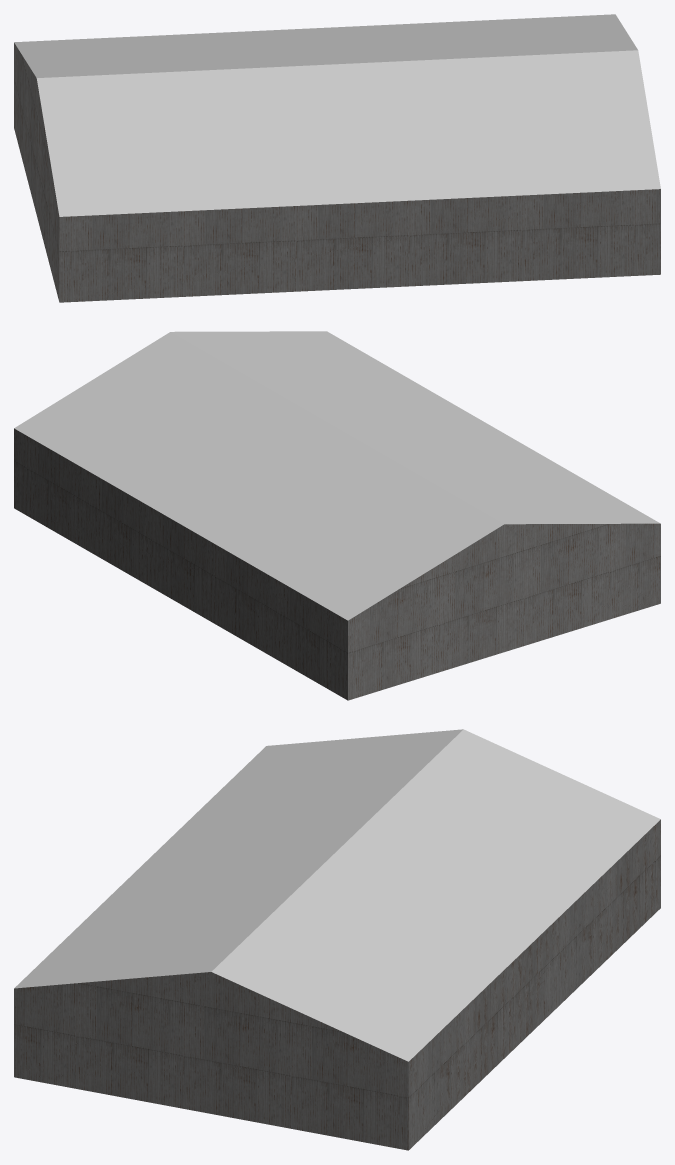
File: hangarMaarch5.gltf
3 views of the same model, one above another, from view 1: azimuth 30°, elevation 25°; view 2: azimuth 150°, elevation 25°; view 3: azimuth 270°, elevation 25° (orthographic). The views are drawn at different scales.
Visible parts, largest first — view 1: node3, node2; view 2: node3, node2; view 3: node3, node2.
Boxes of the visible parts, x1,y1,x2,y2 form: node3: (14,14,660,216); node2: (14,42,660,302); node3: (14,331,660,620); node2: (14,428,660,700); node3: (14,729,660,1061); node2: (14,819,660,1150).
Bounding box in the file's own units: 38.15 × 8 × 33.02.
